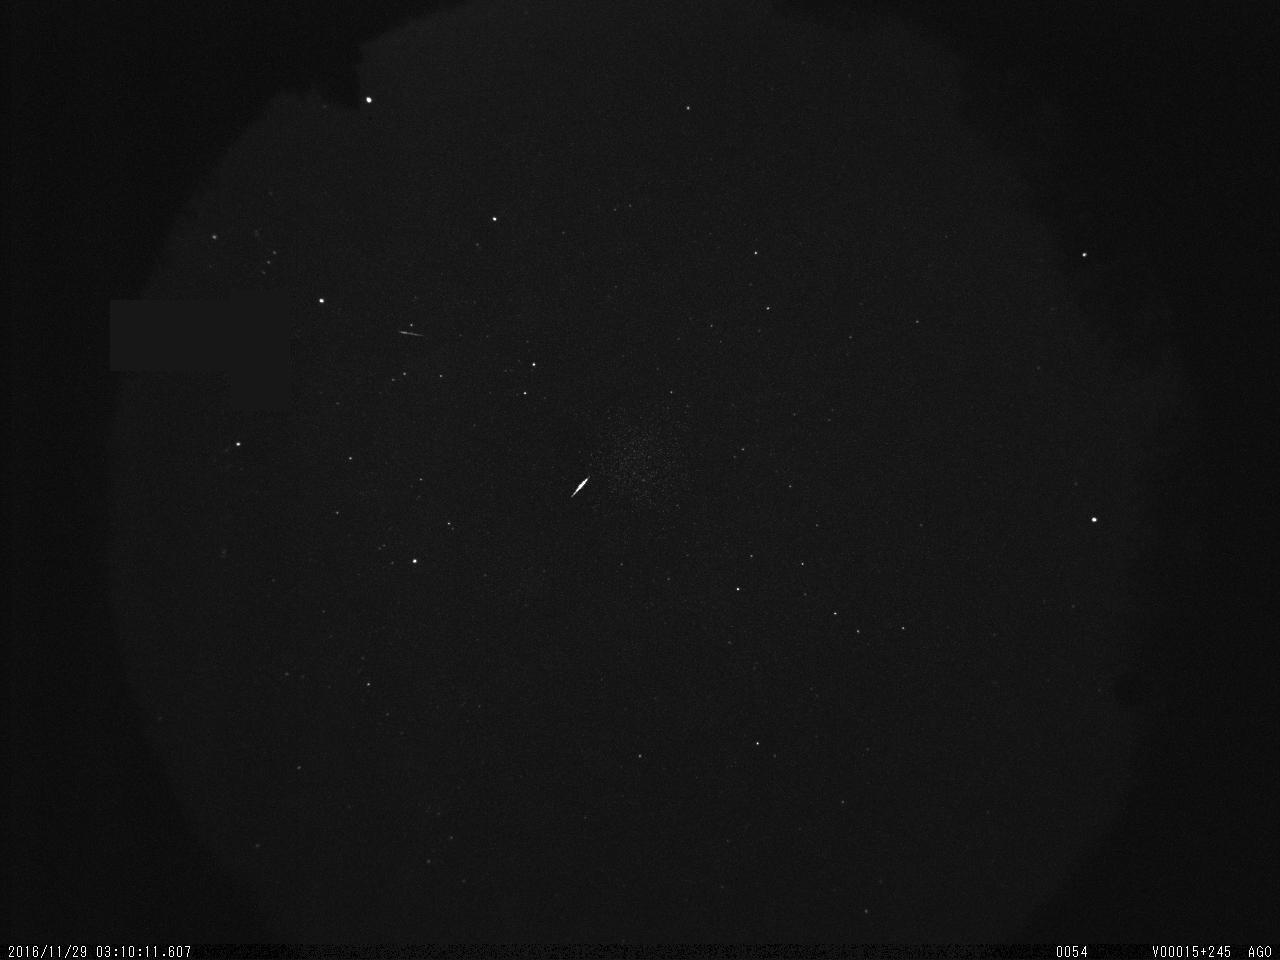meteor: (567, 467, 597, 508), (392, 318, 432, 348)
